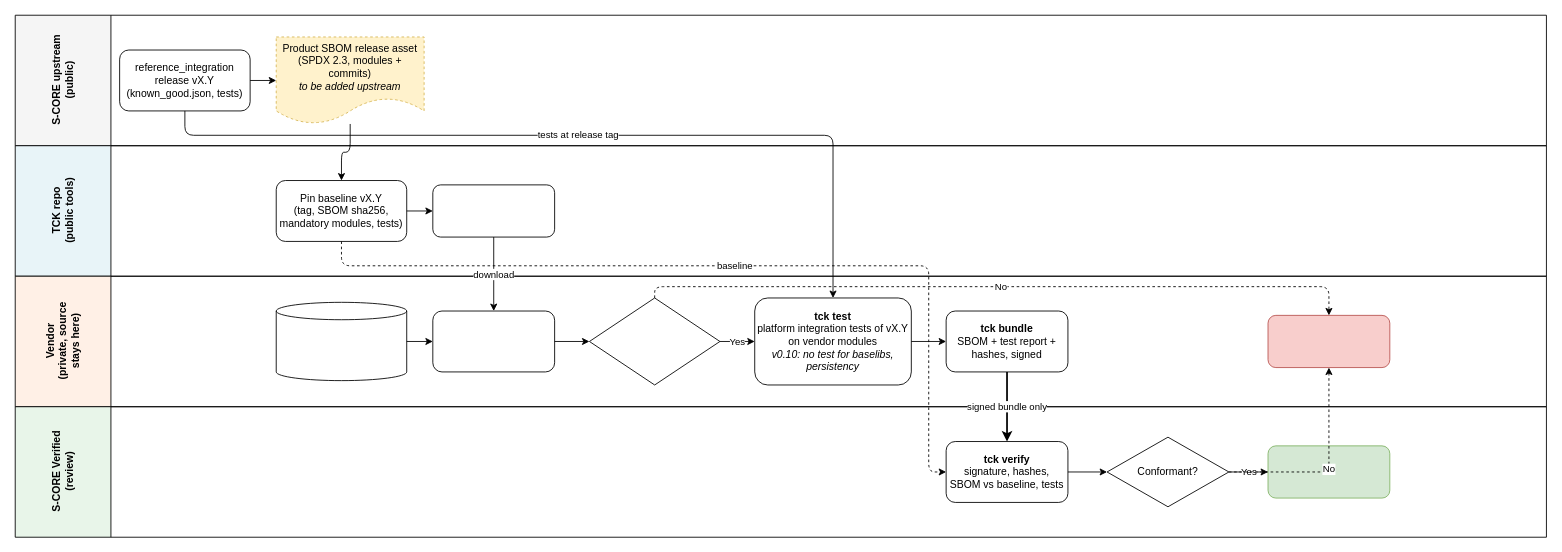
Image size: 1562x552. Some labels were removed from this diagram. The shapes that lost their labels are listed below. From the top down, each one's centre as x and y in pixels, then its label:
At (493,210): "TCK release (tck CLI + baseline)".
At (341,341): "Vendor stack: git forks of the 6 mandatory modules".
At (493,341): "tck sbom git ancestry check, generate vendor SBOM".
At (654,341): "Based on release version, not later?".
At (1328,341): "Fix and resubmit".
At (1328,471): "Verified for S-CORE vX.Y".
